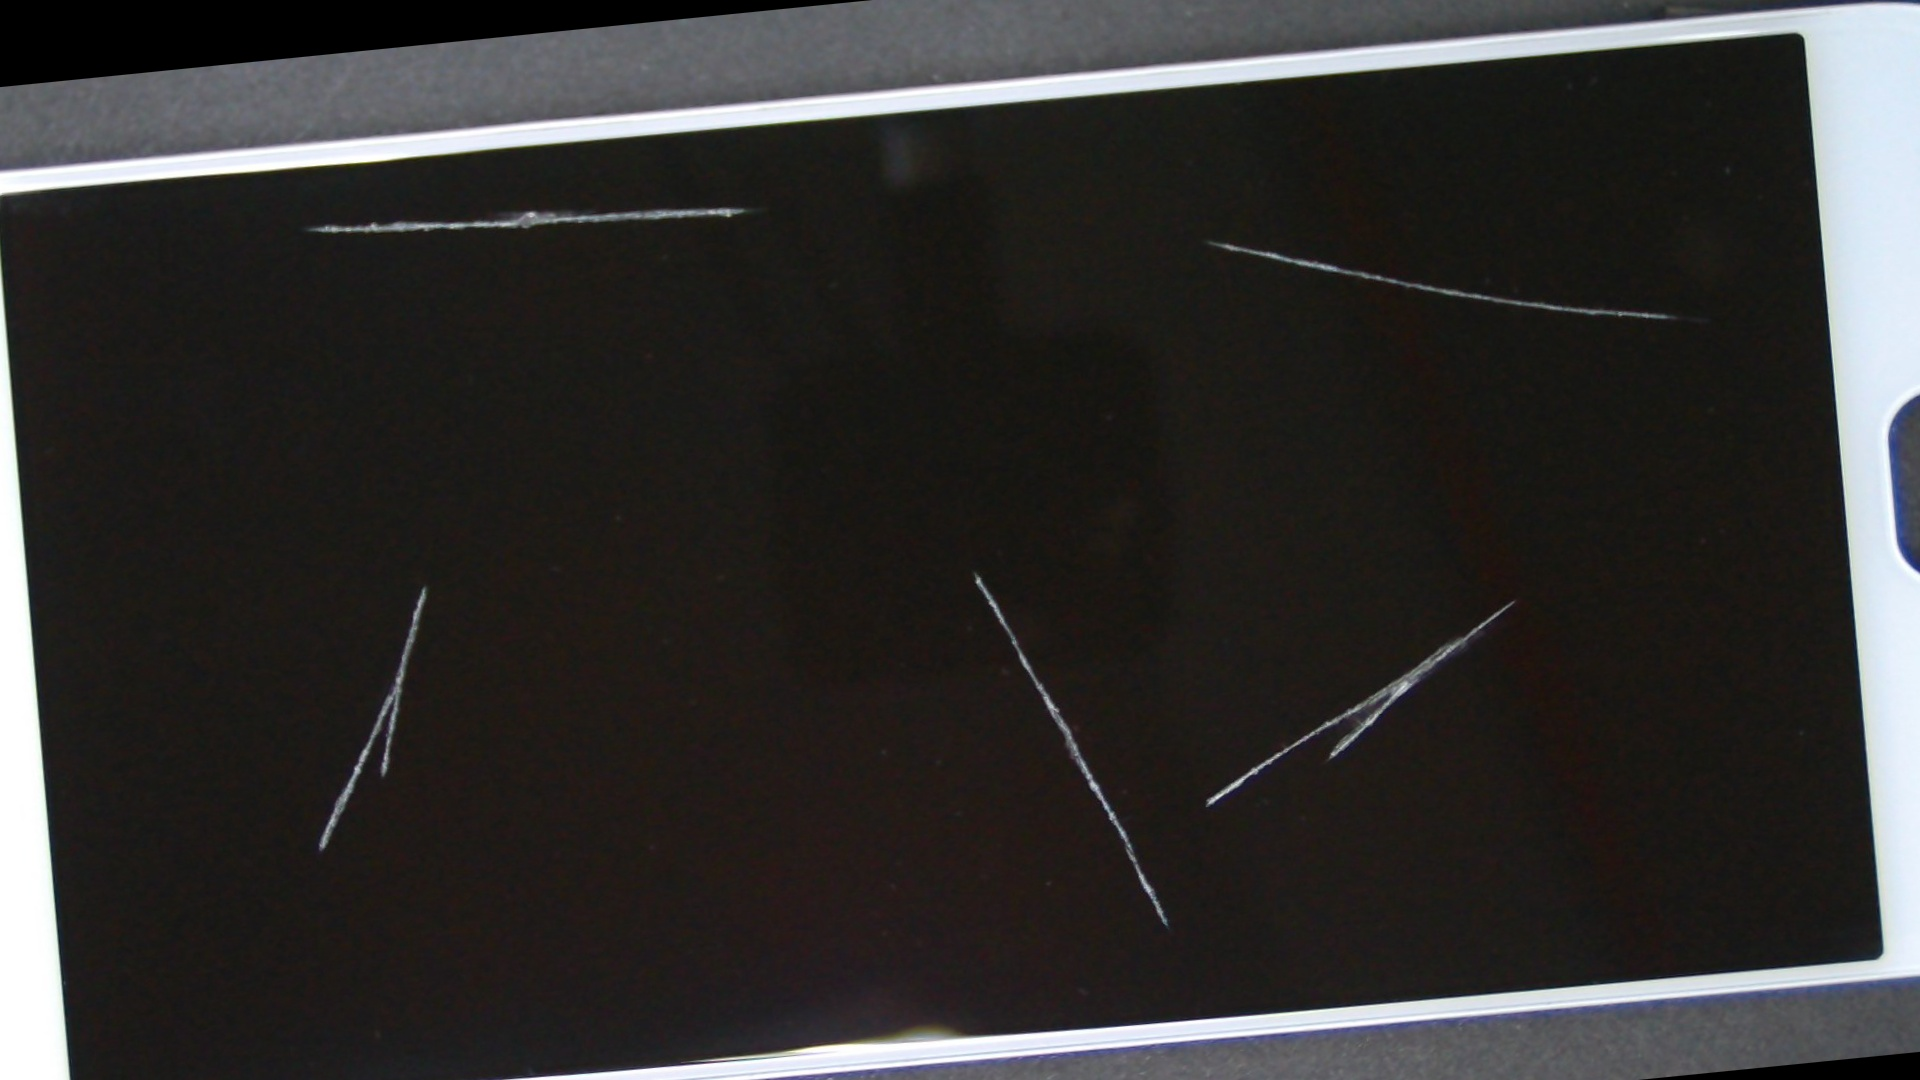oil: (637, 214, 1920, 1013), (368, 225, 1580, 918), (483, 32, 1920, 447), (92, 286, 753, 884), (44, 111, 605, 335)
